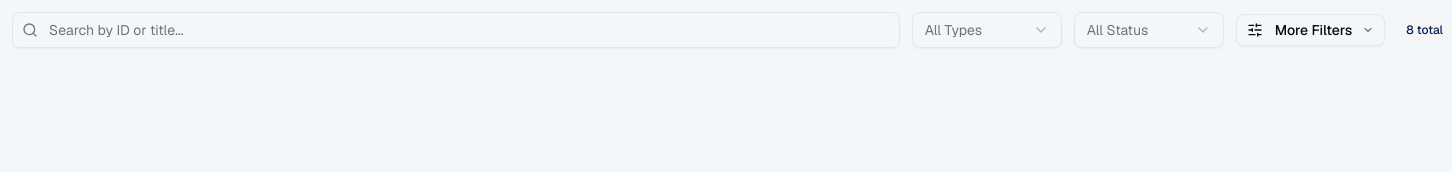
Scenario: DocumentFilters › shows more filters section when More Filters is clicked
Click the button with test id "more-filters-button".
click(1310, 30)  # box [1236, 14, 1385, 46]
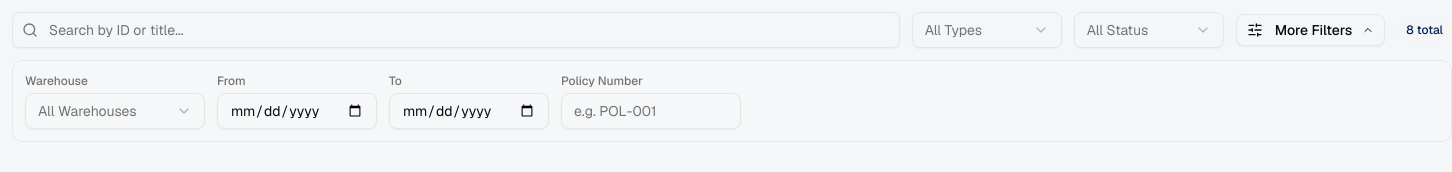
Result: the text "Warehouse" is shown at [25, 73, 88, 89]
Result: the text "From" is shown at [217, 73, 246, 89]
Result: the text "To" is shown at [389, 73, 402, 89]
